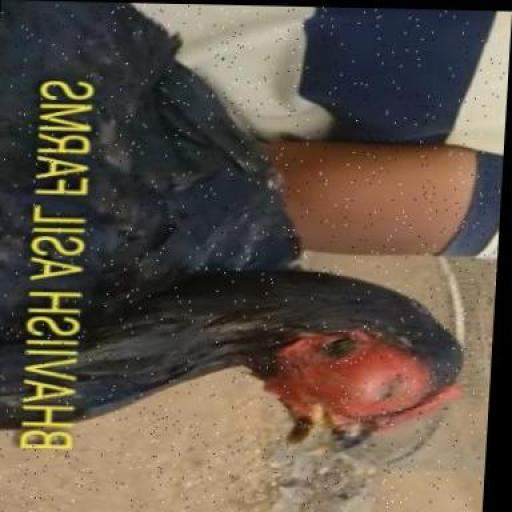disease: (270, 322, 442, 465)
